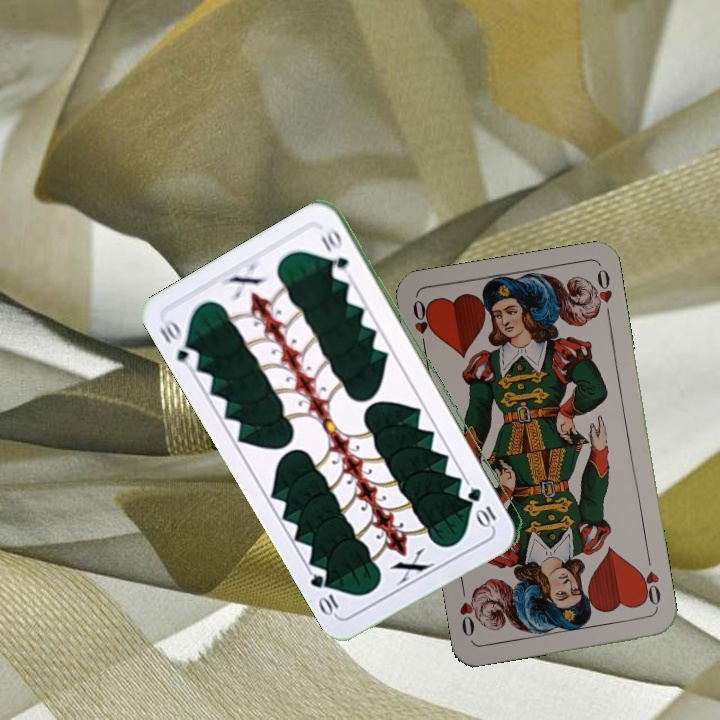G10: (155, 316, 202, 372), (466, 483, 500, 530)
HO: (635, 551, 664, 610), (408, 295, 434, 354)
